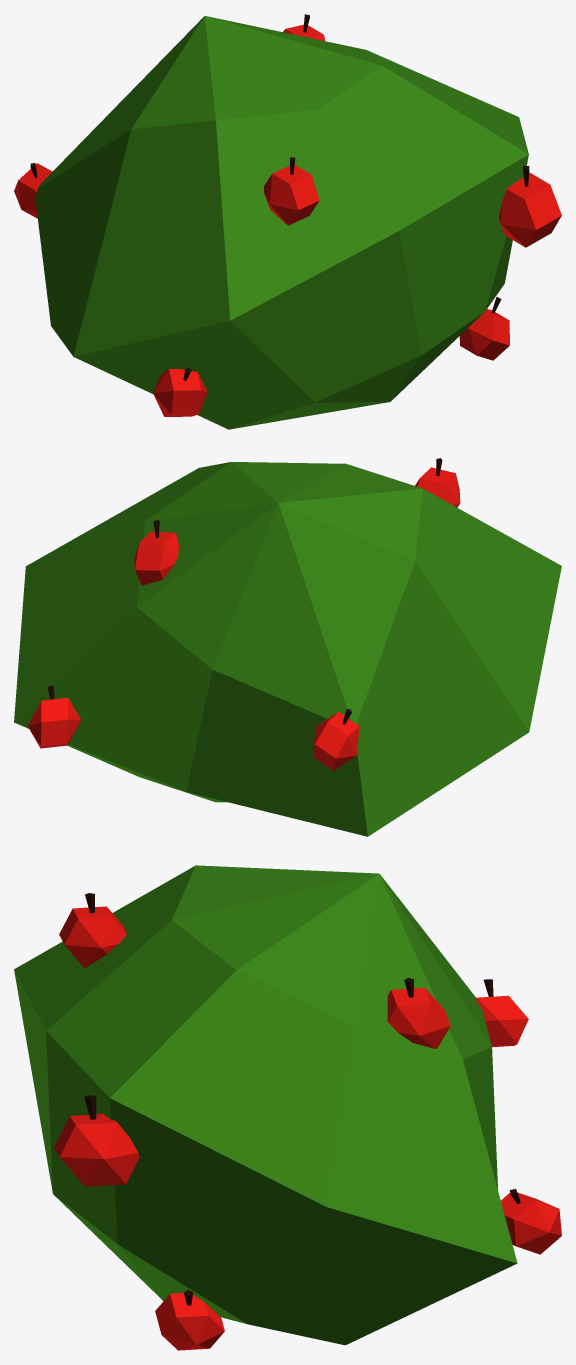
The model's file is bush 1.fbx.
The picture shows the model from 3 angles, top to bottom: view 1: azimuth 30°, elevation 25°; view 2: azimuth 150°, elevation 25°; view 3: azimuth 270°, elevation 25°; orthographic projection. The views are drawn at different scales.
Visible parts, largest first — view 1: bush 1; view 2: bush 1; view 3: bush 1.
Boxes of the visible parts, x1,y1,x2,y2 form: bush 1: (14,14,561,429); bush 1: (14,458,561,836); bush 1: (14,865,561,1350).
Bounding box in the file's own units: 374 × 249 × 323.
